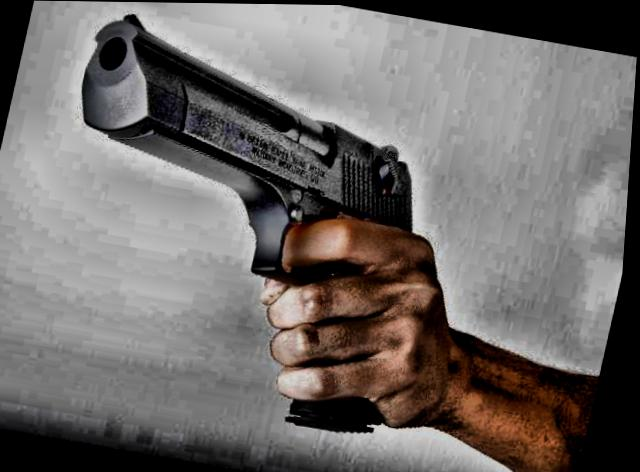pistol: (16, 5, 471, 439)
